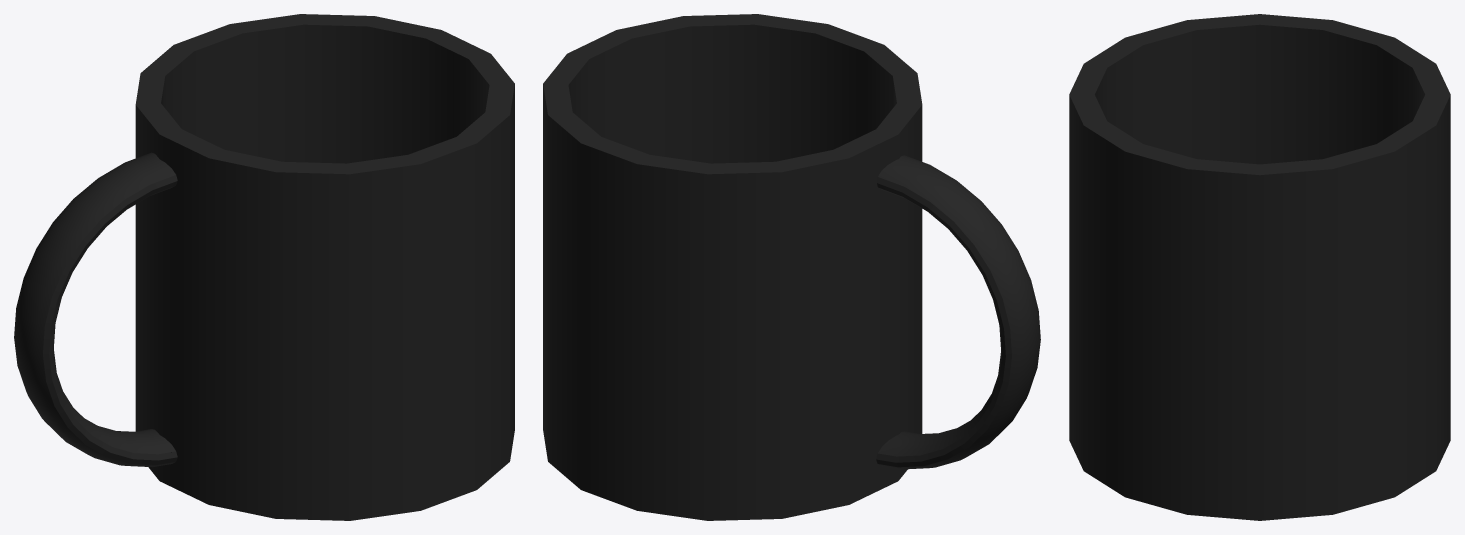
Rendered from TazaNegra.fbx.
The picture shows the model from 3 angles, left to right: view 1: azimuth 30°, elevation 25°; view 2: azimuth 150°, elevation 25°; view 3: azimuth 270°, elevation 25°; orthographic projection.
Visible parts, largest first — view 1: taza; view 2: taza; view 3: taza.
Part boxes in pixels (x1=…): taza: x1=14, y1=14, x2=514, y2=520; taza: x1=543, y1=14, x2=1040, y2=520; taza: x1=1069, y1=14, x2=1450, y2=520.
Bounding box in the file's own units: 15.38 × 10.88 × 10.88.
